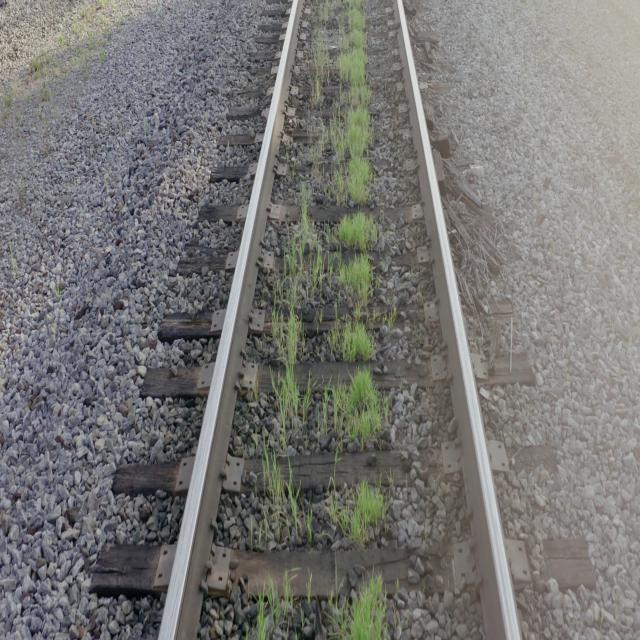Plant: (272, 189, 379, 444), (310, 0, 371, 202), (310, 371, 389, 449), (329, 480, 388, 547), (260, 447, 300, 536), (340, 576, 386, 638), (350, 571, 385, 640), (311, 4, 335, 104), (255, 589, 295, 640)
